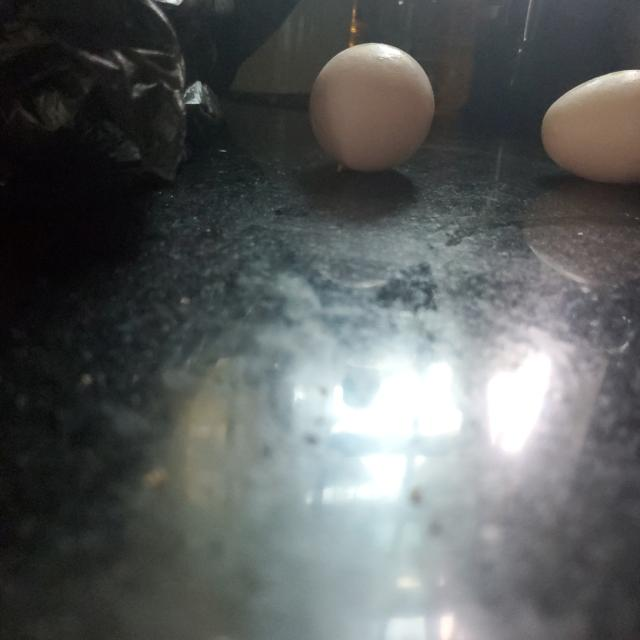egg: (310, 46, 434, 172), (540, 70, 638, 182)
